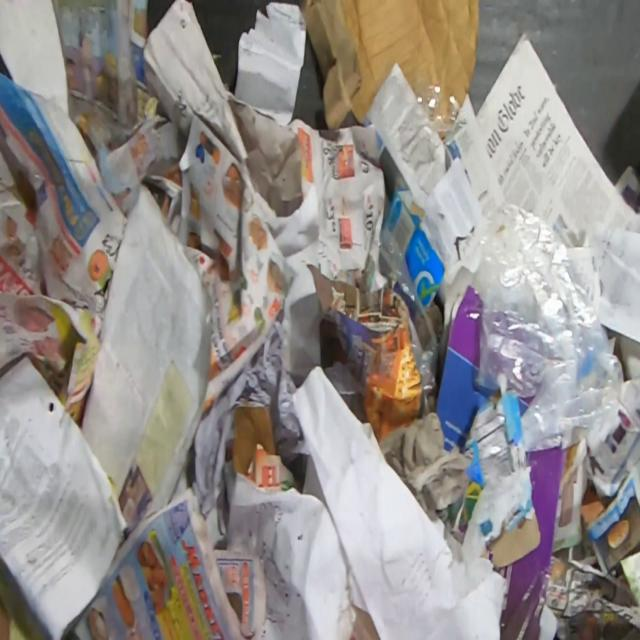cardboard: (301, 0, 480, 132), (304, 264, 425, 444), (464, 372, 542, 570), (495, 447, 569, 639), (434, 264, 492, 454), (383, 189, 446, 335), (225, 406, 277, 477), (0, 594, 12, 640), (379, 251, 392, 276), (519, 396, 535, 416)
rigid_plastic: (395, 74, 467, 173)
soft_plastic: (474, 199, 624, 453), (374, 228, 438, 396)
